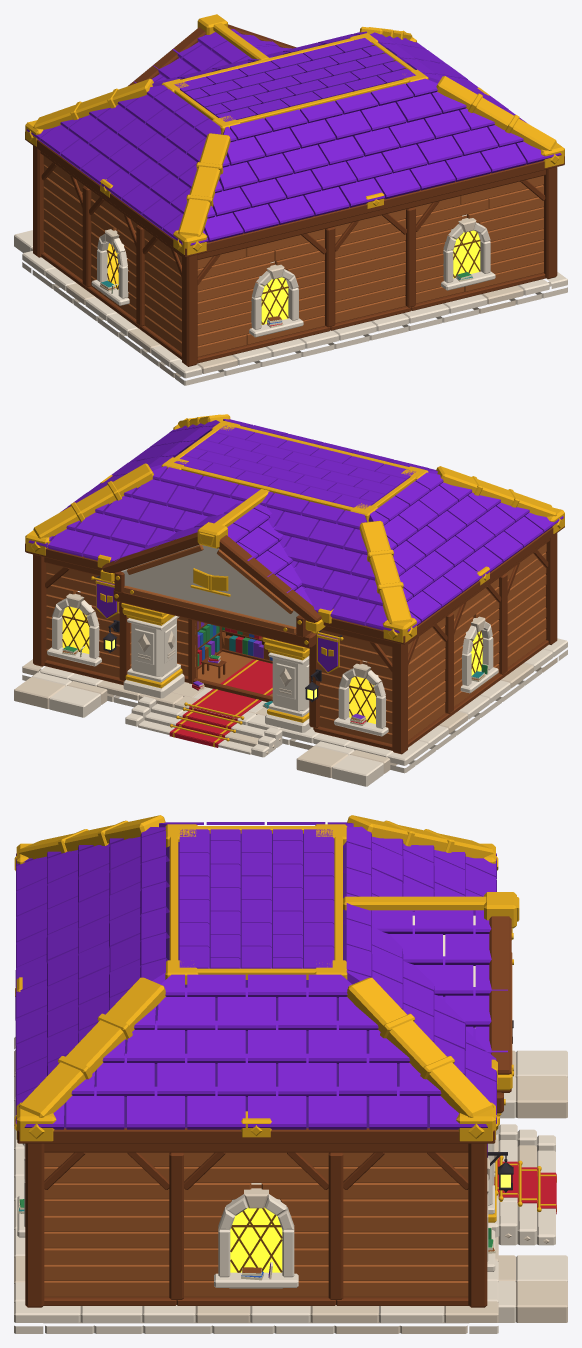
File: dex_hall.glb
The picture shows the model from 3 angles, top to bottom: view 1: azimuth 30°, elevation 25°; view 2: azimuth 150°, elevation 25°; view 3: azimuth 270°, elevation 25°; orthographic projection. The views are drawn at different scales.
Visible parts, largest first — view 1: Roof_Shingles_Back, Wall_Back_Planks, Roof_Shingles_Left, Foundation_Stones, Roof_Deck_Tiles, Wall_Left_Planks, Timber_Frame_Back, Roof_Gold_Hips, Roof_Fascia, Timber_Corner_Posts, Timber_Frame_Left, Window_Back_B (+8 smaller); view 2: Roof_Shingles_Front, Roof_Shingles_Left, Pediment, Roof_Deck_Tiles, Wall_Left_Planks, Foundation_Stones, Roof_Gold_Hips, Wall_Front_Planks, Timber_Corner_Posts, Column_Right, Timber_Frame_Left, Carpet (+24 smaller); view 3: Wall_Right_Planks, Roof_Shingles_Right, Roof_Shingles_Back, Roof_Deck_Tiles, Roof_Shingles_Front, Roof_Gold_Hips, Timber_Frame_Right, Foundation_Stones, Gable_Shingles, Window_Right, Pediment, Timber_Corner_Posts (+9 smaller).
Boxes of the visible parts, bbox=[...] form: Roof_Shingles_Back: bbox=[190, 78, 561, 245]; Wall_Back_Planks: bbox=[197, 175, 543, 356]; Roof_Shingles_Left: bbox=[26, 85, 221, 244]; Foundation_Stones: bbox=[22, 214, 567, 385]; Roof_Deck_Tiles: bbox=[174, 38, 415, 121]; Wall_Left_Planks: bbox=[43, 156, 181, 352]; Timber_Frame_Back: bbox=[197, 169, 545, 363]; Roof_Gold_Hips: bbox=[33, 26, 556, 236]; Roof_Fascia: bbox=[25, 132, 564, 257]; Timber_Corner_Posts: bbox=[33, 145, 557, 366]; Timber_Frame_Left: bbox=[40, 151, 181, 359]; Window_Back_B: bbox=[441, 215, 495, 290]; Roof_Shingles_Front: bbox=[28, 466, 399, 633]; Roof_Shingles_Left: bbox=[368, 472, 563, 631]; Pediment: bbox=[100, 489, 325, 637]; Roof_Deck_Tiles: bbox=[174, 425, 415, 508]; Wall_Left_Planks: bbox=[408, 543, 546, 739]; Foundation_Stones: bbox=[22, 638, 567, 773]; Roof_Gold_Hips: bbox=[33, 414, 556, 624]; Wall_Front_Planks: bbox=[46, 563, 392, 744]; Timber_Corner_Posts: bbox=[33, 533, 557, 754]; Column_Right: bbox=[121, 603, 184, 698]; Timber_Frame_Left: bbox=[408, 538, 549, 747]; Carpet: bbox=[169, 659, 272, 747]; Wall_Right_Planks: bbox=[44, 1152, 468, 1297]; Roof_Shingles_Right: bbox=[24, 974, 487, 1129]; Roof_Shingles_Back: bbox=[15, 827, 169, 1123]; Roof_Deck_Tiles: bbox=[178, 829, 334, 968]; Roof_Shingles_Front: bbox=[343, 826, 496, 1123]; Roof_Gold_Hips: bbox=[19, 815, 493, 1117]; Timber_Frame_Right: bbox=[44, 1143, 468, 1305]; Foundation_Stones: bbox=[14, 1037, 498, 1333]; Gable_Shingles: bbox=[372, 910, 507, 1053]; Window_Right: bbox=[214, 1184, 298, 1288]; Pediment: bbox=[343, 892, 519, 1092]; Timber_Corner_Posts: bbox=[25, 1143, 487, 1307].
Bounding box in the file's own units: 38 × 19 × 32.
